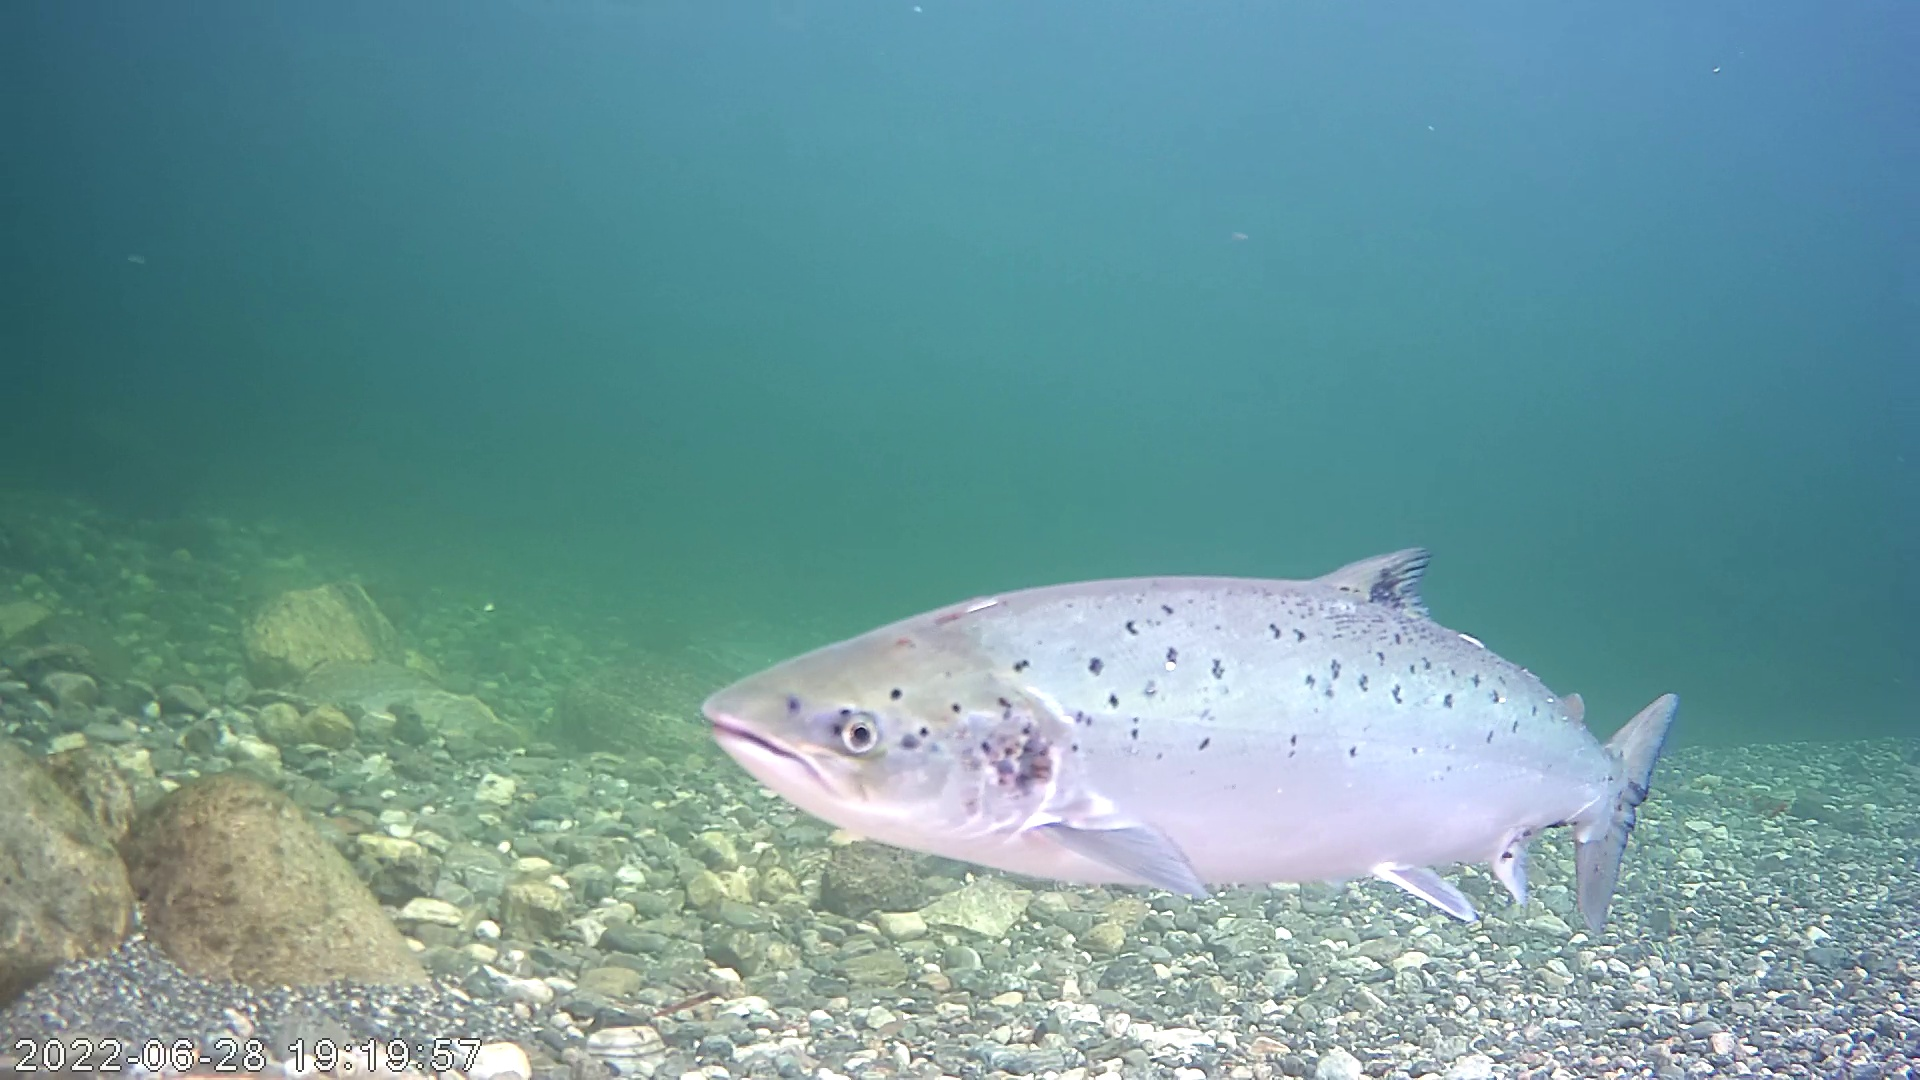salmon: (674, 456, 1684, 909)
